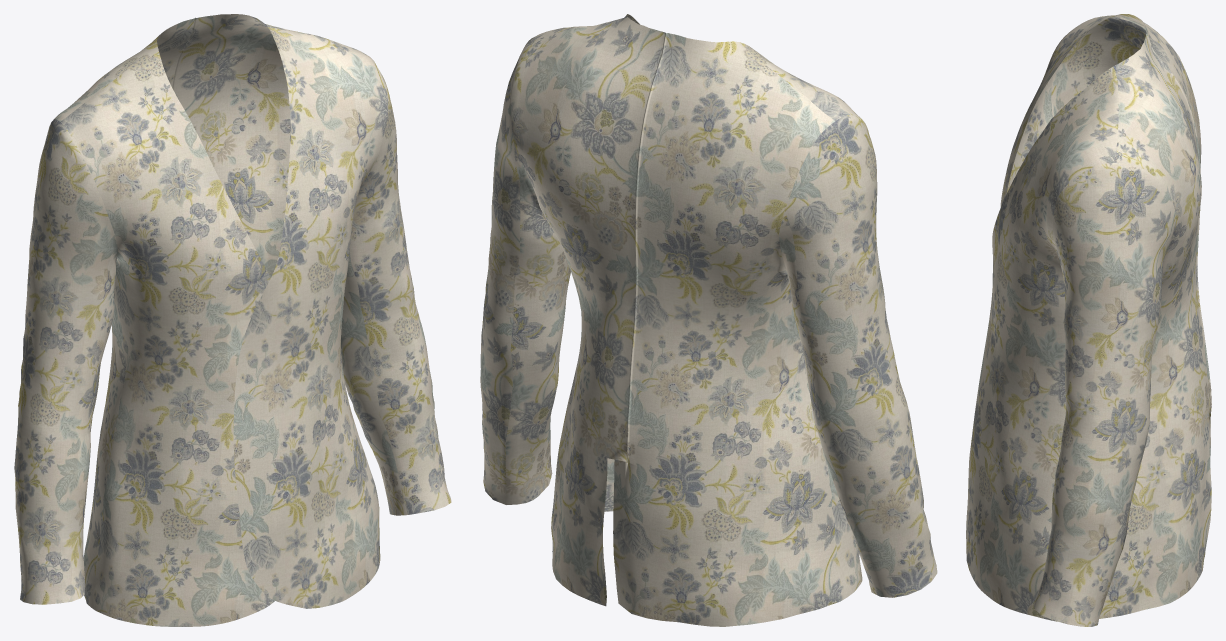
Rendered from full_lining_centre_vent.glb.
3 renders of one model, left to right at view 1: azimuth 30°, elevation 25°; view 2: azimuth 150°, elevation 25°; view 3: azimuth 270°, elevation 25°, orthographic. The views are drawn at different scales.
Visible parts, largest first — view 1: Centre Vents; view 2: Centre Vents; view 3: Centre Vents.
Part boxes in pixels (box(x1,y1,x2,y2)): Centre Vents: box(14, 14, 451, 626); Centre Vents: box(480, 14, 937, 626); Centre Vents: box(966, 14, 1211, 626).
Bounding box in the file's own units: 60.44 × 73.28 × 31.
Materials: 1 (1 with a texture image).
